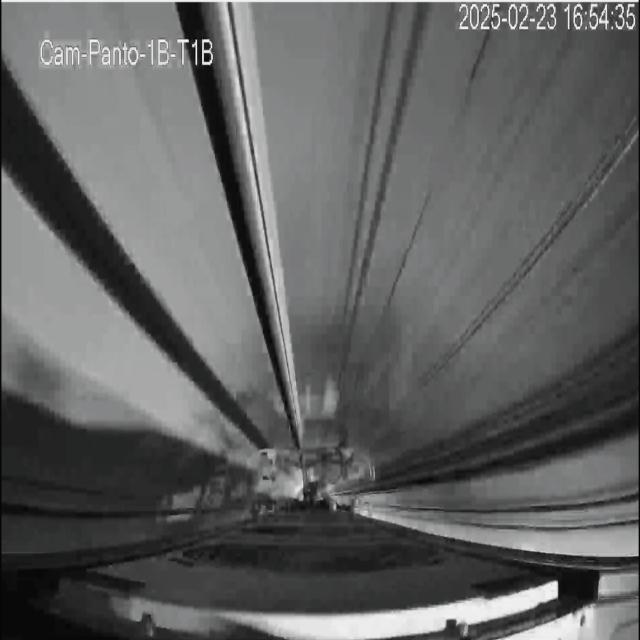Camera Stamp: (38, 32, 218, 69)
Date Stamp: (458, 3, 636, 33)
